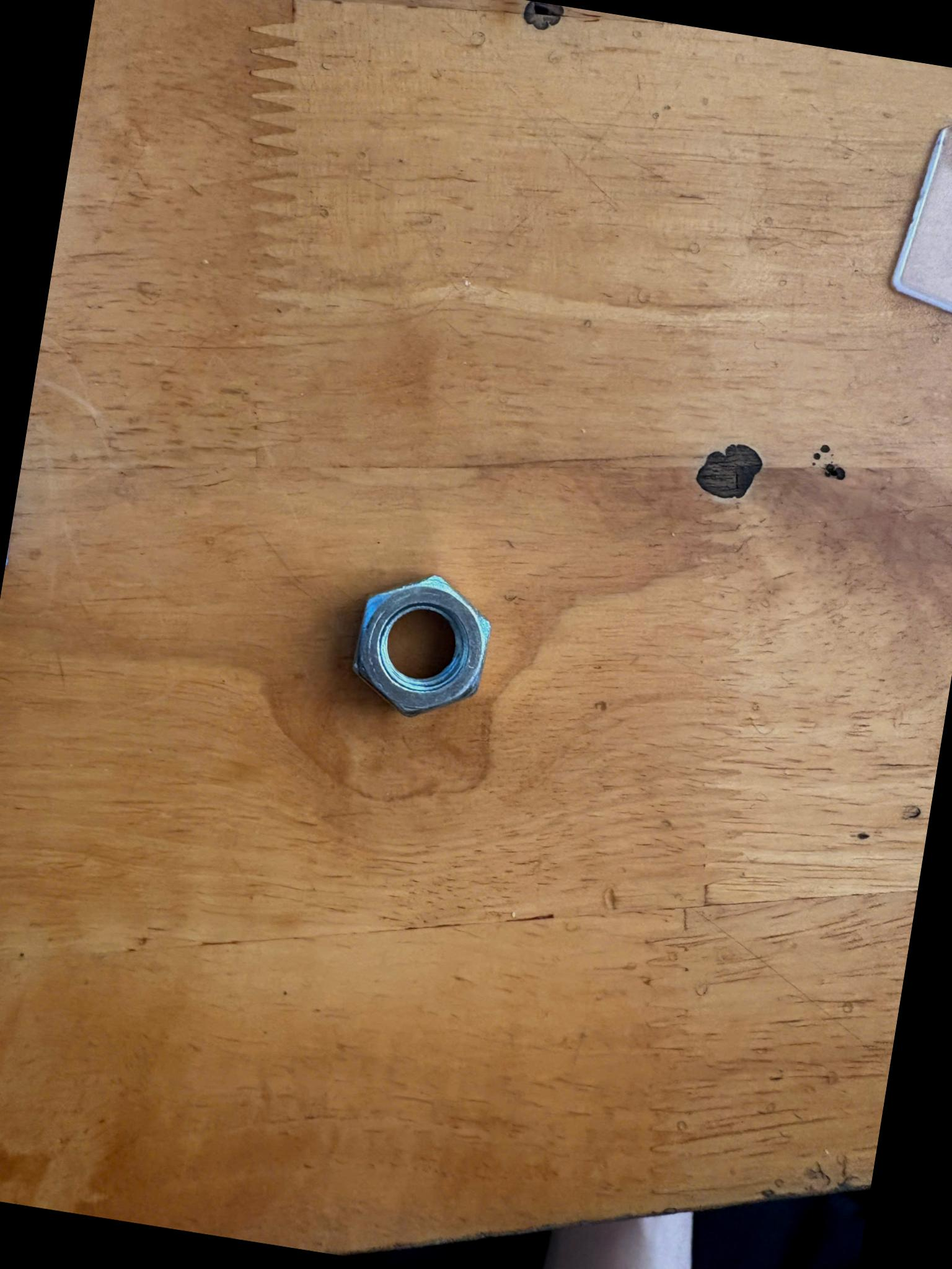nut: (303, 544, 526, 745)
